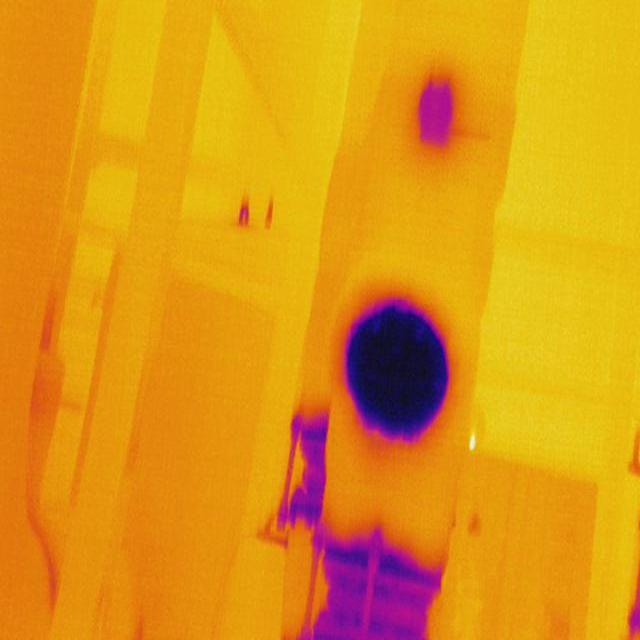leakage: (414, 73, 460, 156)
